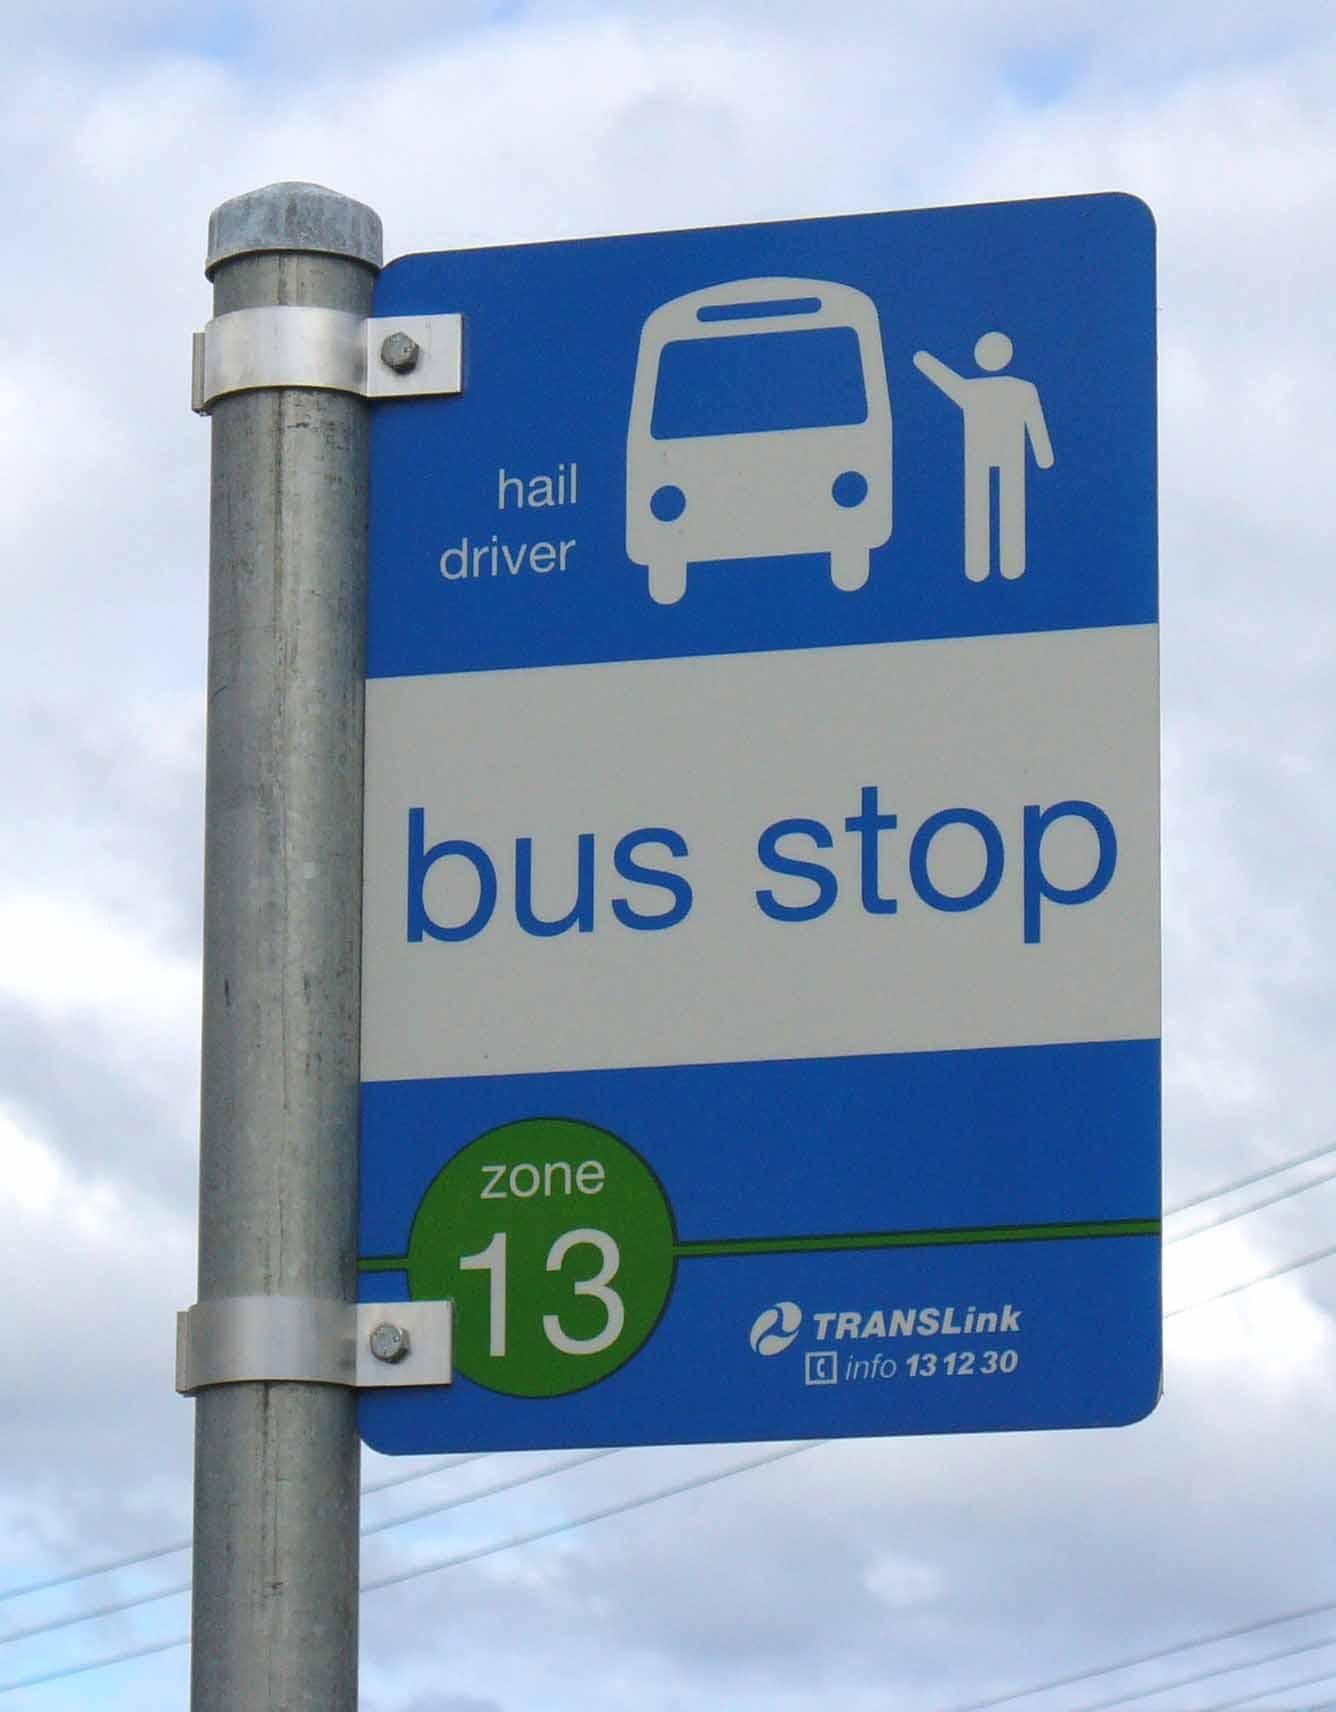traffic sign: (179, 153, 1233, 1712)
